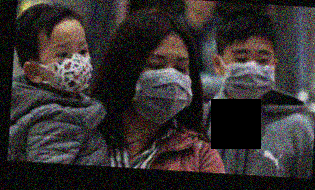with_mask: (131, 49, 193, 123), (221, 44, 276, 105), (38, 35, 94, 93)
